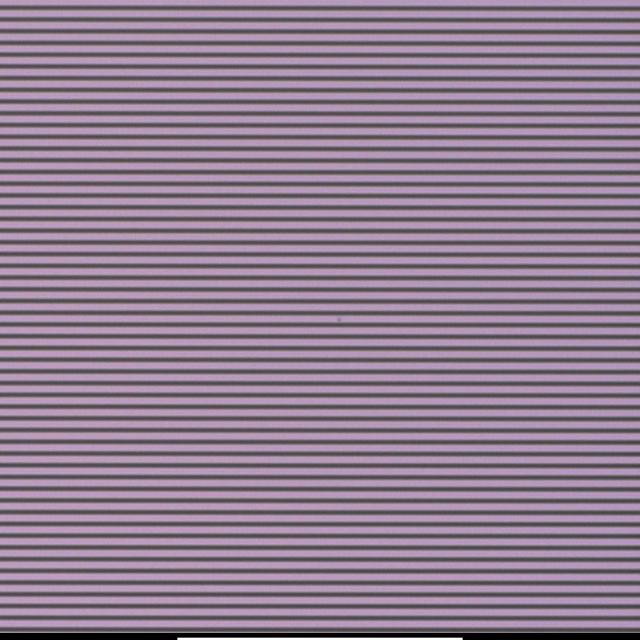nonvisual: (334, 315, 344, 326)
